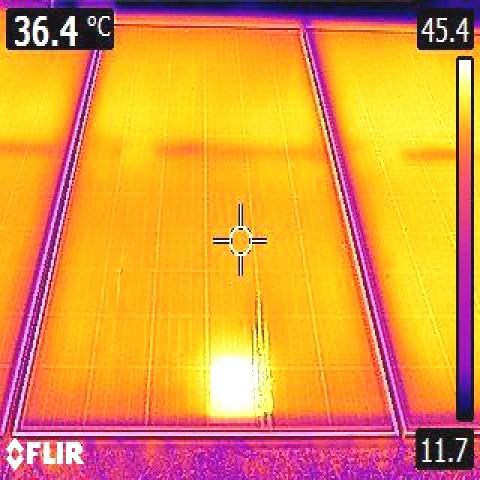fault: (210, 365, 258, 423)
